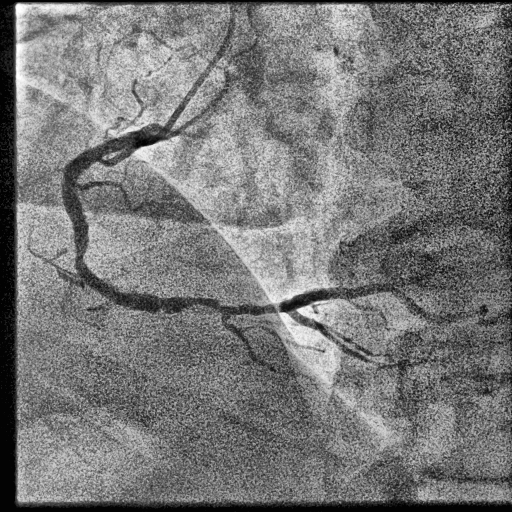pborca: (227, 276, 414, 315)
pda: (222, 314, 275, 371)
rca: (62, 123, 229, 315)
